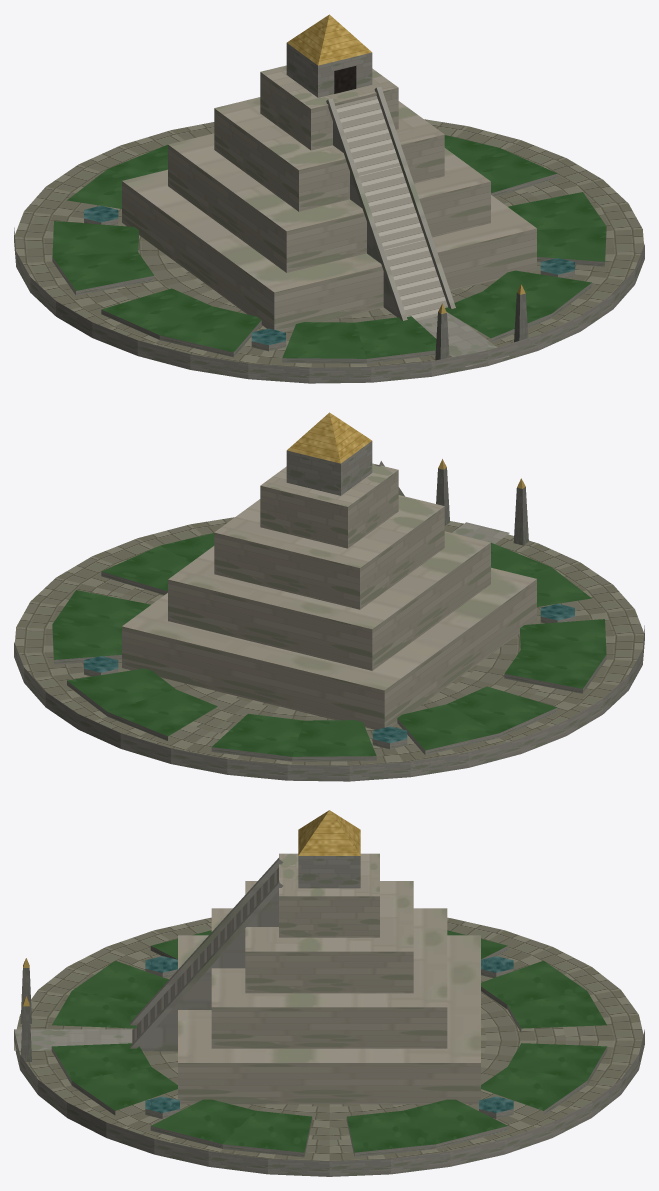
File: pyramid_large_lod1.glb
The picture shows the model from 3 angles, top to bottom: view 1: azimuth 30°, elevation 25°; view 2: azimuth 150°, elevation 25°; view 3: azimuth 270°, elevation 25°; orthographic projection.
Parts seen in each view (by area): view 1: pyramid_large_lod1; view 2: pyramid_large_lod1; view 3: pyramid_large_lod1.
Boxes of the visible parts, x1,y1,x2,y2 form: pyramid_large_lod1: [14, 14, 644, 383]; pyramid_large_lod1: [14, 412, 644, 781]; pyramid_large_lod1: [14, 810, 644, 1176].
Bounding box in the file's own units: 1.89 × 0.779 × 1.9.
1 material, 1 textured.
